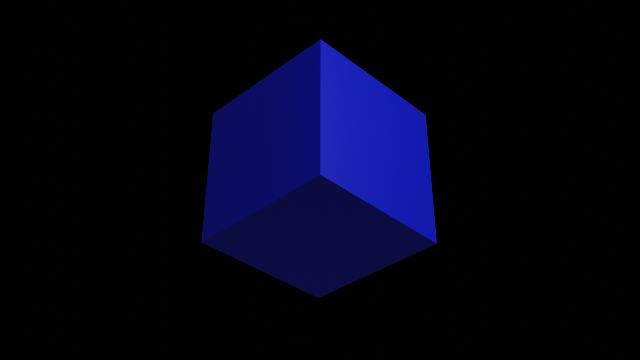Cube: (193, 33, 444, 312)
